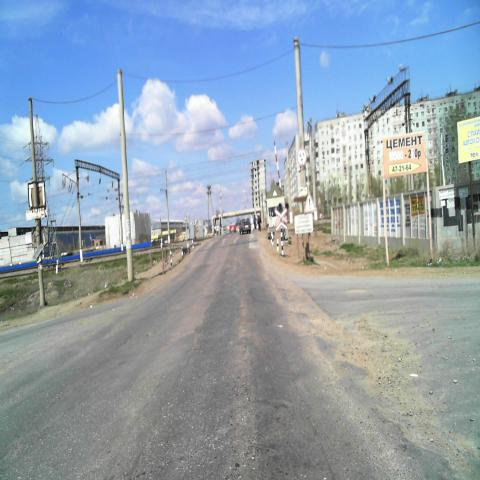1_33: (303, 192, 316, 214)
